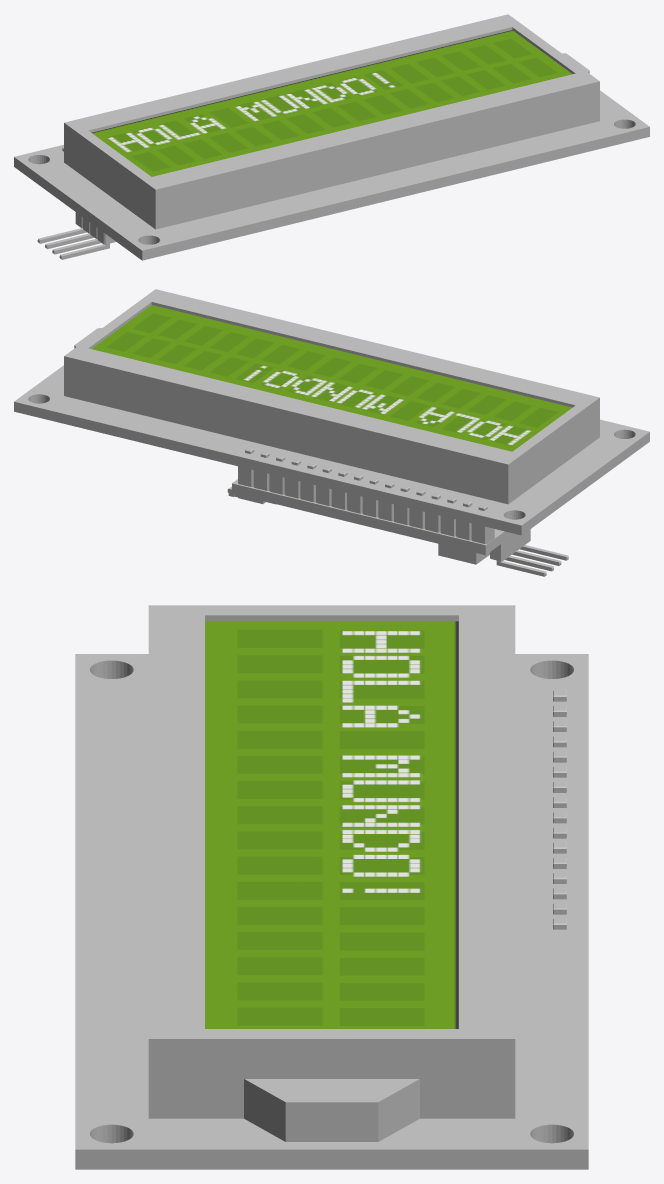
Rendered from I2CLcdDisplay.fbx.
The picture shows the model from 3 angles, top to bottom: view 1: azimuth 30°, elevation 25°; view 2: azimuth 150°, elevation 25°; view 3: azimuth 270°, elevation 25°; orthographic projection. The views are drawn at different scales.
Parts seen in each view (by area): view 1: Cube.001, Cube, Pinout; view 2: Cube.001, Cube, Pinout.002, Cube.003, Pinout, Cube.004; view 3: Cube.001, Cube, Cube.002, Pinout.002.
Boxes of the visible parts, left/top/right/bottom form: Cube.001: left=64, top=14, right=599, bottom=229; Cube: left=14, top=90, right=649, bottom=260; Pinout: left=37, top=212, right=115, bottom=259; Cube.001: left=64, top=289, right=599, bottom=504; Cube: left=14, top=365, right=649, bottom=535; Pinout.002: left=238, top=447, right=494, bottom=543; Cube.003: left=232, top=479, right=514, bottom=555; Pinout: left=490, top=529, right=568, bottom=576; Cube.004: left=438, top=544, right=489, bottom=564; Cube.001: left=148, top=605, right=515, bottom=1118; Cube: left=75, top=654, right=588, bottom=1169; Cube.002: left=244, top=1079, right=419, bottom=1141; Pinout.002: left=553, top=690, right=566, bottom=929.
Bounding box in the file's own units: 8 × 1.72 × 3.5.
